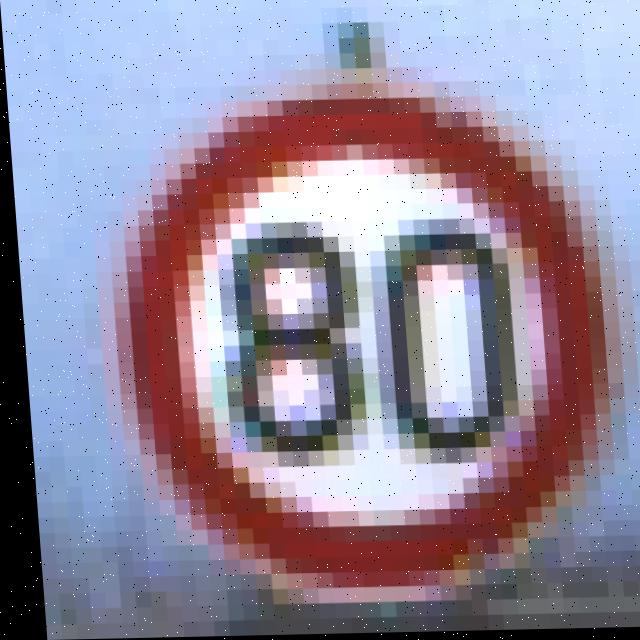speed_limit_80: (101, 66, 634, 599)
